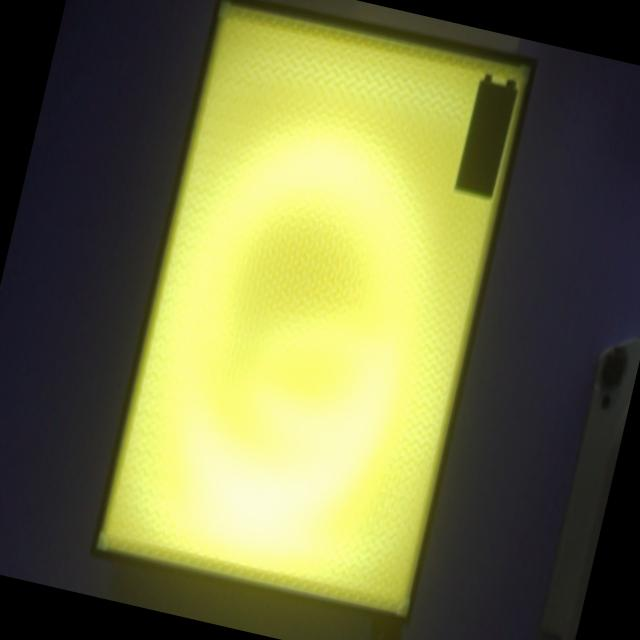Bateria: (454, 80, 517, 197)
Mesa: (89, 0, 538, 625)
Pestana: (505, 78, 516, 87), (484, 73, 492, 81)
